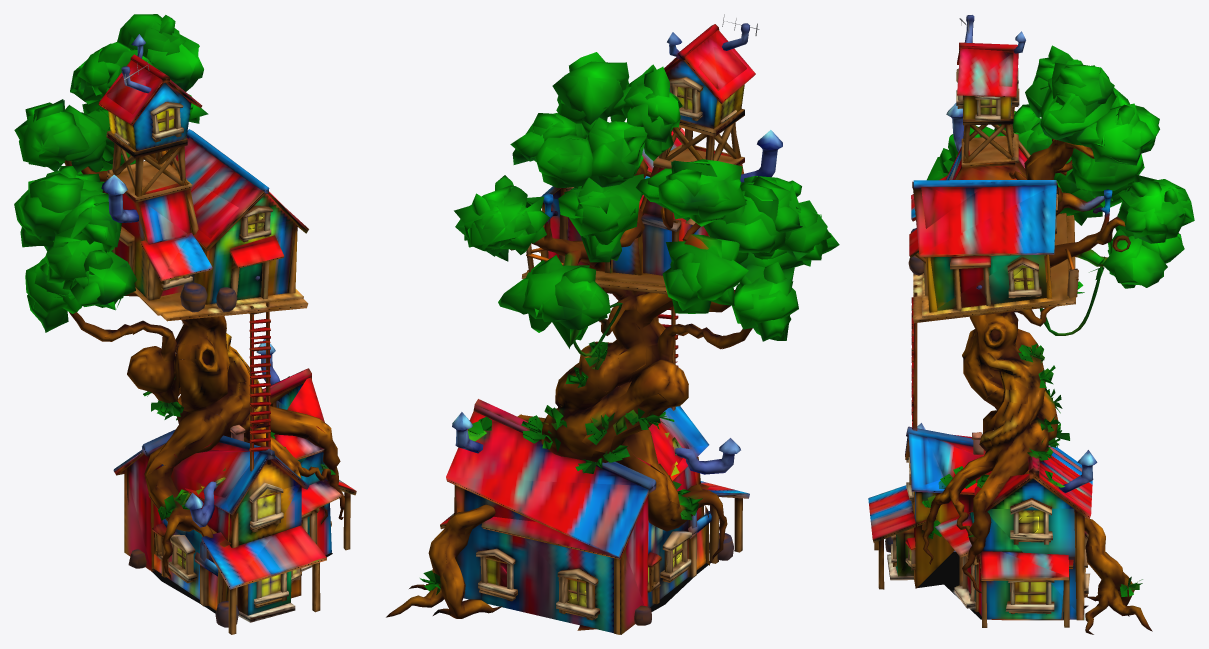
Rendered from StoreHouseAlt.glb.
The picture shows the model from 3 angles, left to right: view 1: azimuth 30°, elevation 25°; view 2: azimuth 150°, elevation 25°; view 3: azimuth 270°, elevation 25°; orthographic projection. The views are drawn at different scales.
Visible parts, largest first — view 1: StoreHouseAlt; view 2: StoreHouseAlt; view 3: StoreHouseAlt.
Part boxes in pixels (<box>): StoreHouseAlt: <box>14,14,356,634</box>; StoreHouseAlt: <box>386,14,839,634</box>; StoreHouseAlt: <box>868,15,1194,634</box>.
Size of the model in its own units: 75.16 by 120 by 69.38.
Materials: 1 (1 with a texture image).
